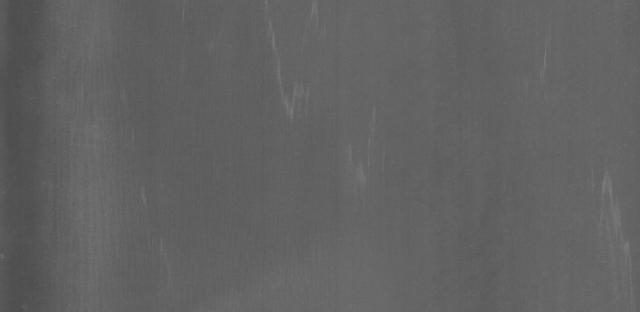silk_spot: (260, 0, 391, 201)
